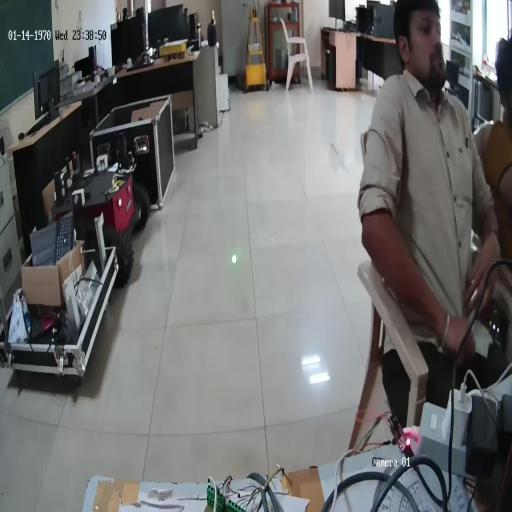laser: (230, 253, 236, 265)
